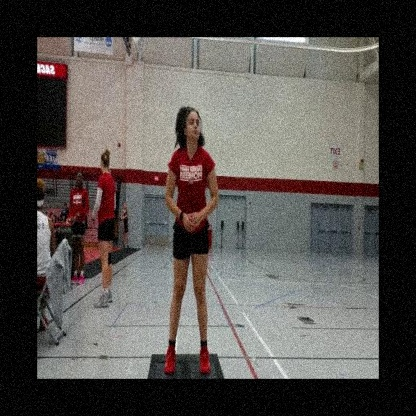lateral_flexion_left: (162, 102, 220, 379)
stance_width_normal: (162, 146, 220, 377)
